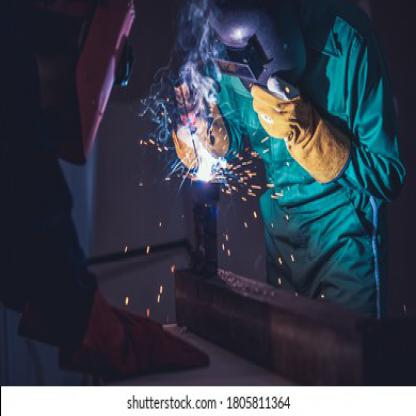with_gloves: (59, 287, 212, 374), (249, 76, 352, 186), (174, 101, 229, 163), (19, 299, 61, 349)
